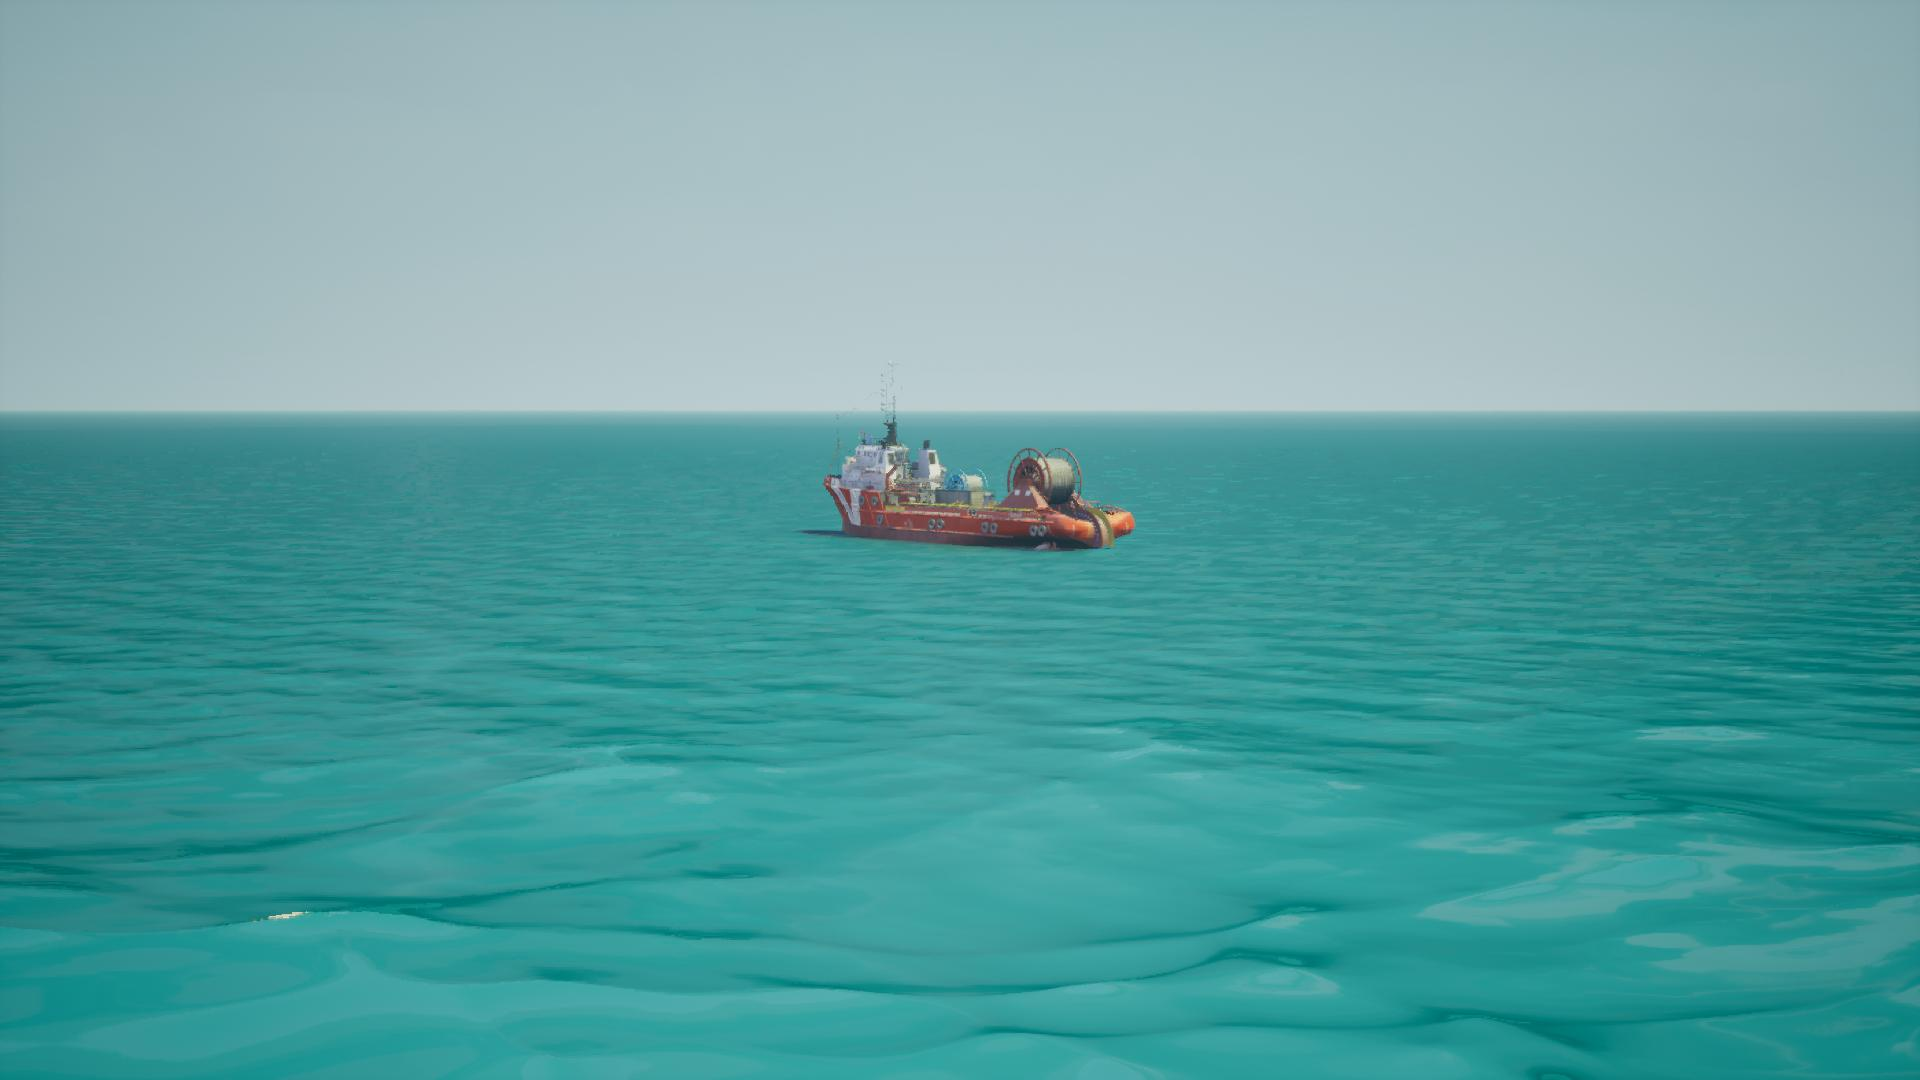Tug Boat: (813, 366, 1124, 558)
